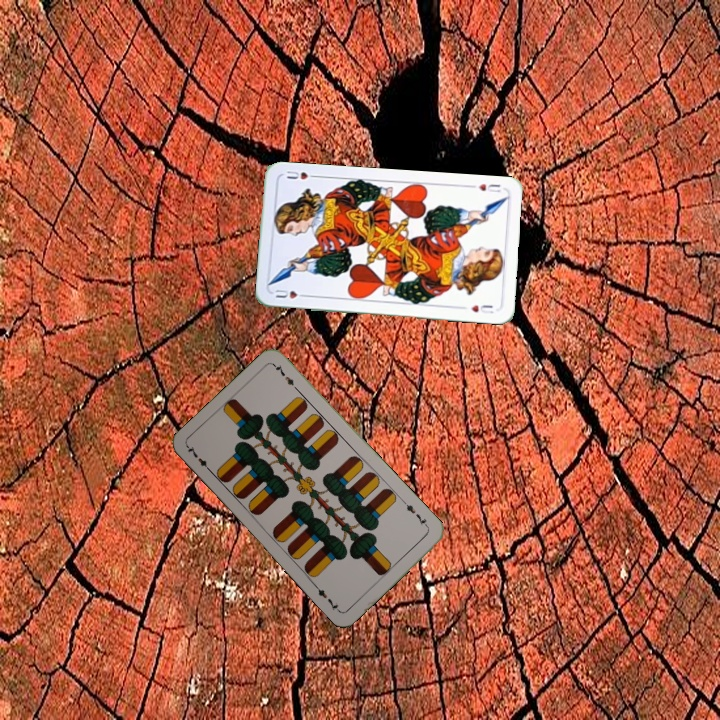E7: (400, 498, 432, 531), (183, 442, 215, 475)
HU: (271, 285, 310, 301), (475, 180, 503, 195)
